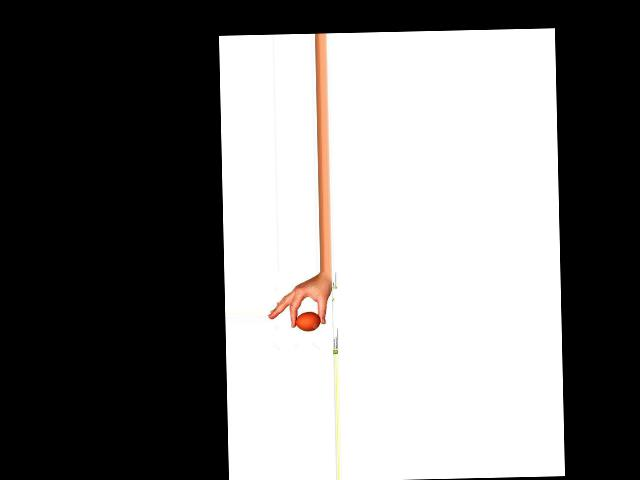egg: (295, 311, 321, 331)
